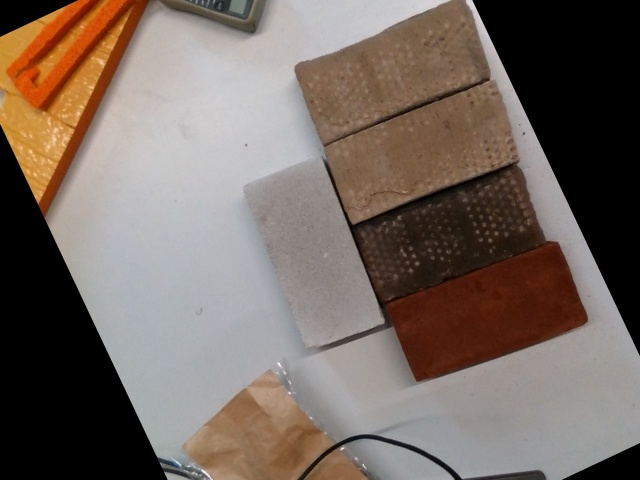brick: (291, 0, 491, 142), (388, 243, 584, 383), (325, 83, 519, 222), (242, 157, 381, 351), (351, 167, 544, 302)
